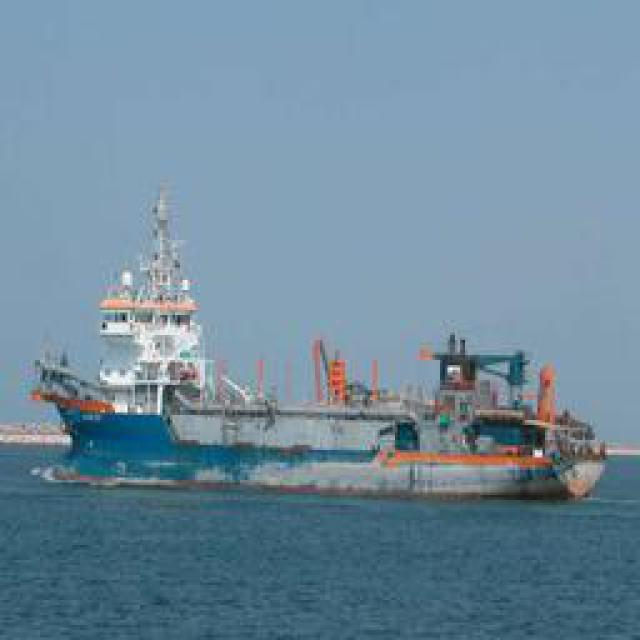Ship: (27, 182, 375, 492)
